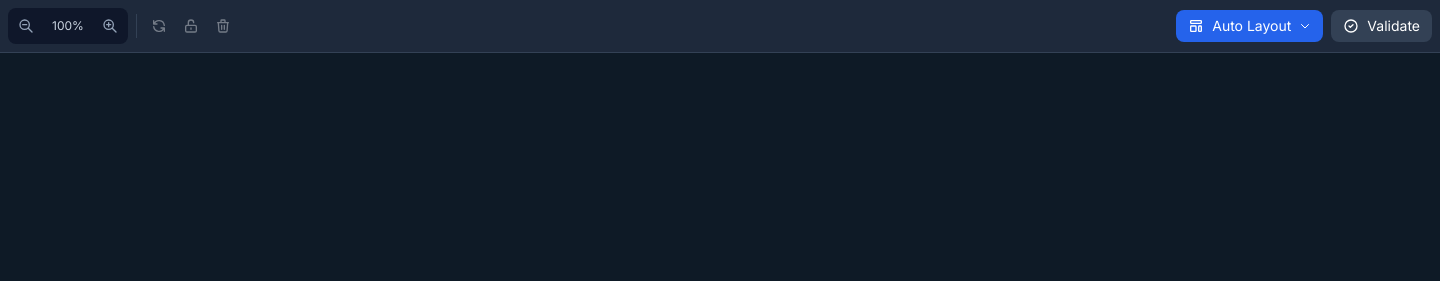
Test: LayoutToolbar › shows auto layout dropdown on click
The image size is (1440, 281).
Click the button "Auto Layout": (1250, 26) [1176, 10, 1323, 42]
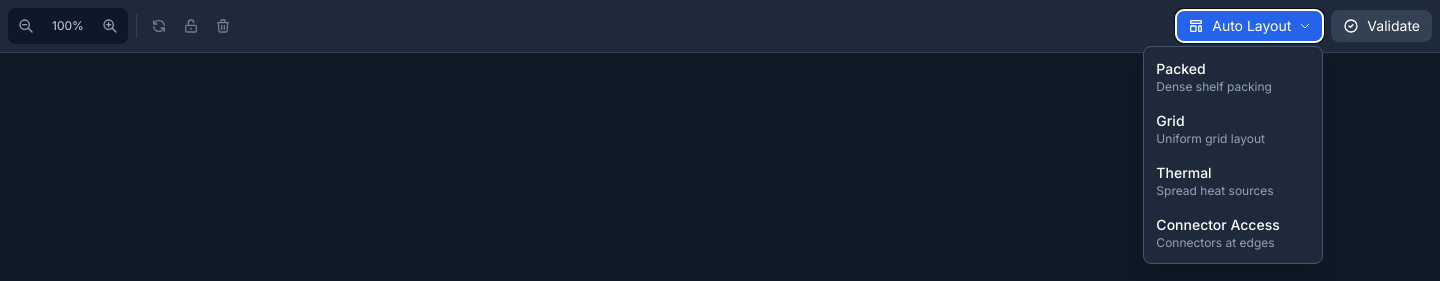
Now the text "Packed" is shown, box [1156, 60, 1206, 77]
Now the text "Grid" is shown, box [1156, 112, 1185, 129]
Now the text "Thermal" is shown, box [1156, 164, 1212, 181]
